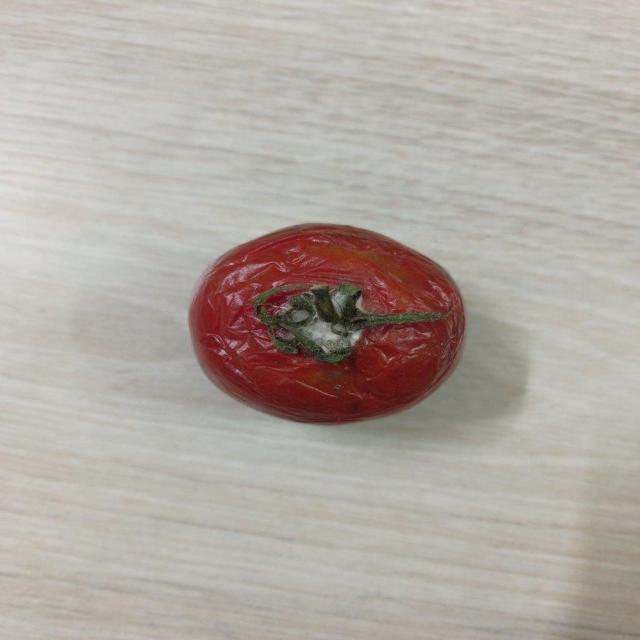Tomato: (192, 215, 474, 423)
